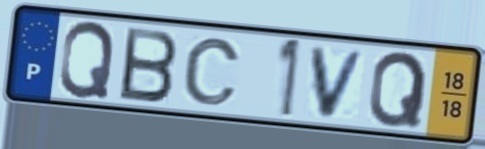1: (274, 36, 304, 123)
B: (117, 24, 181, 105)
C: (181, 35, 244, 108)
Q: (365, 48, 430, 129), (56, 19, 118, 101)
V: (308, 45, 370, 121)
